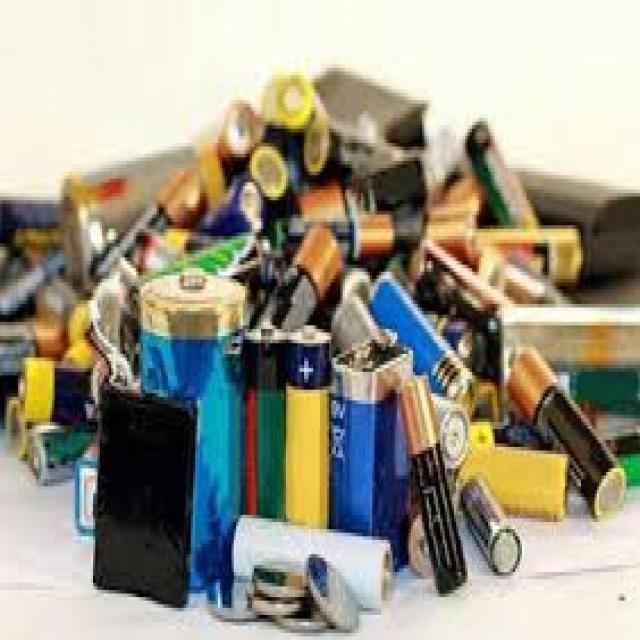non-organic waste: (144, 264, 239, 592), (507, 346, 626, 524), (330, 330, 412, 567), (231, 512, 392, 614), (400, 370, 470, 594), (286, 317, 332, 534), (238, 321, 284, 518), (457, 476, 525, 580)
